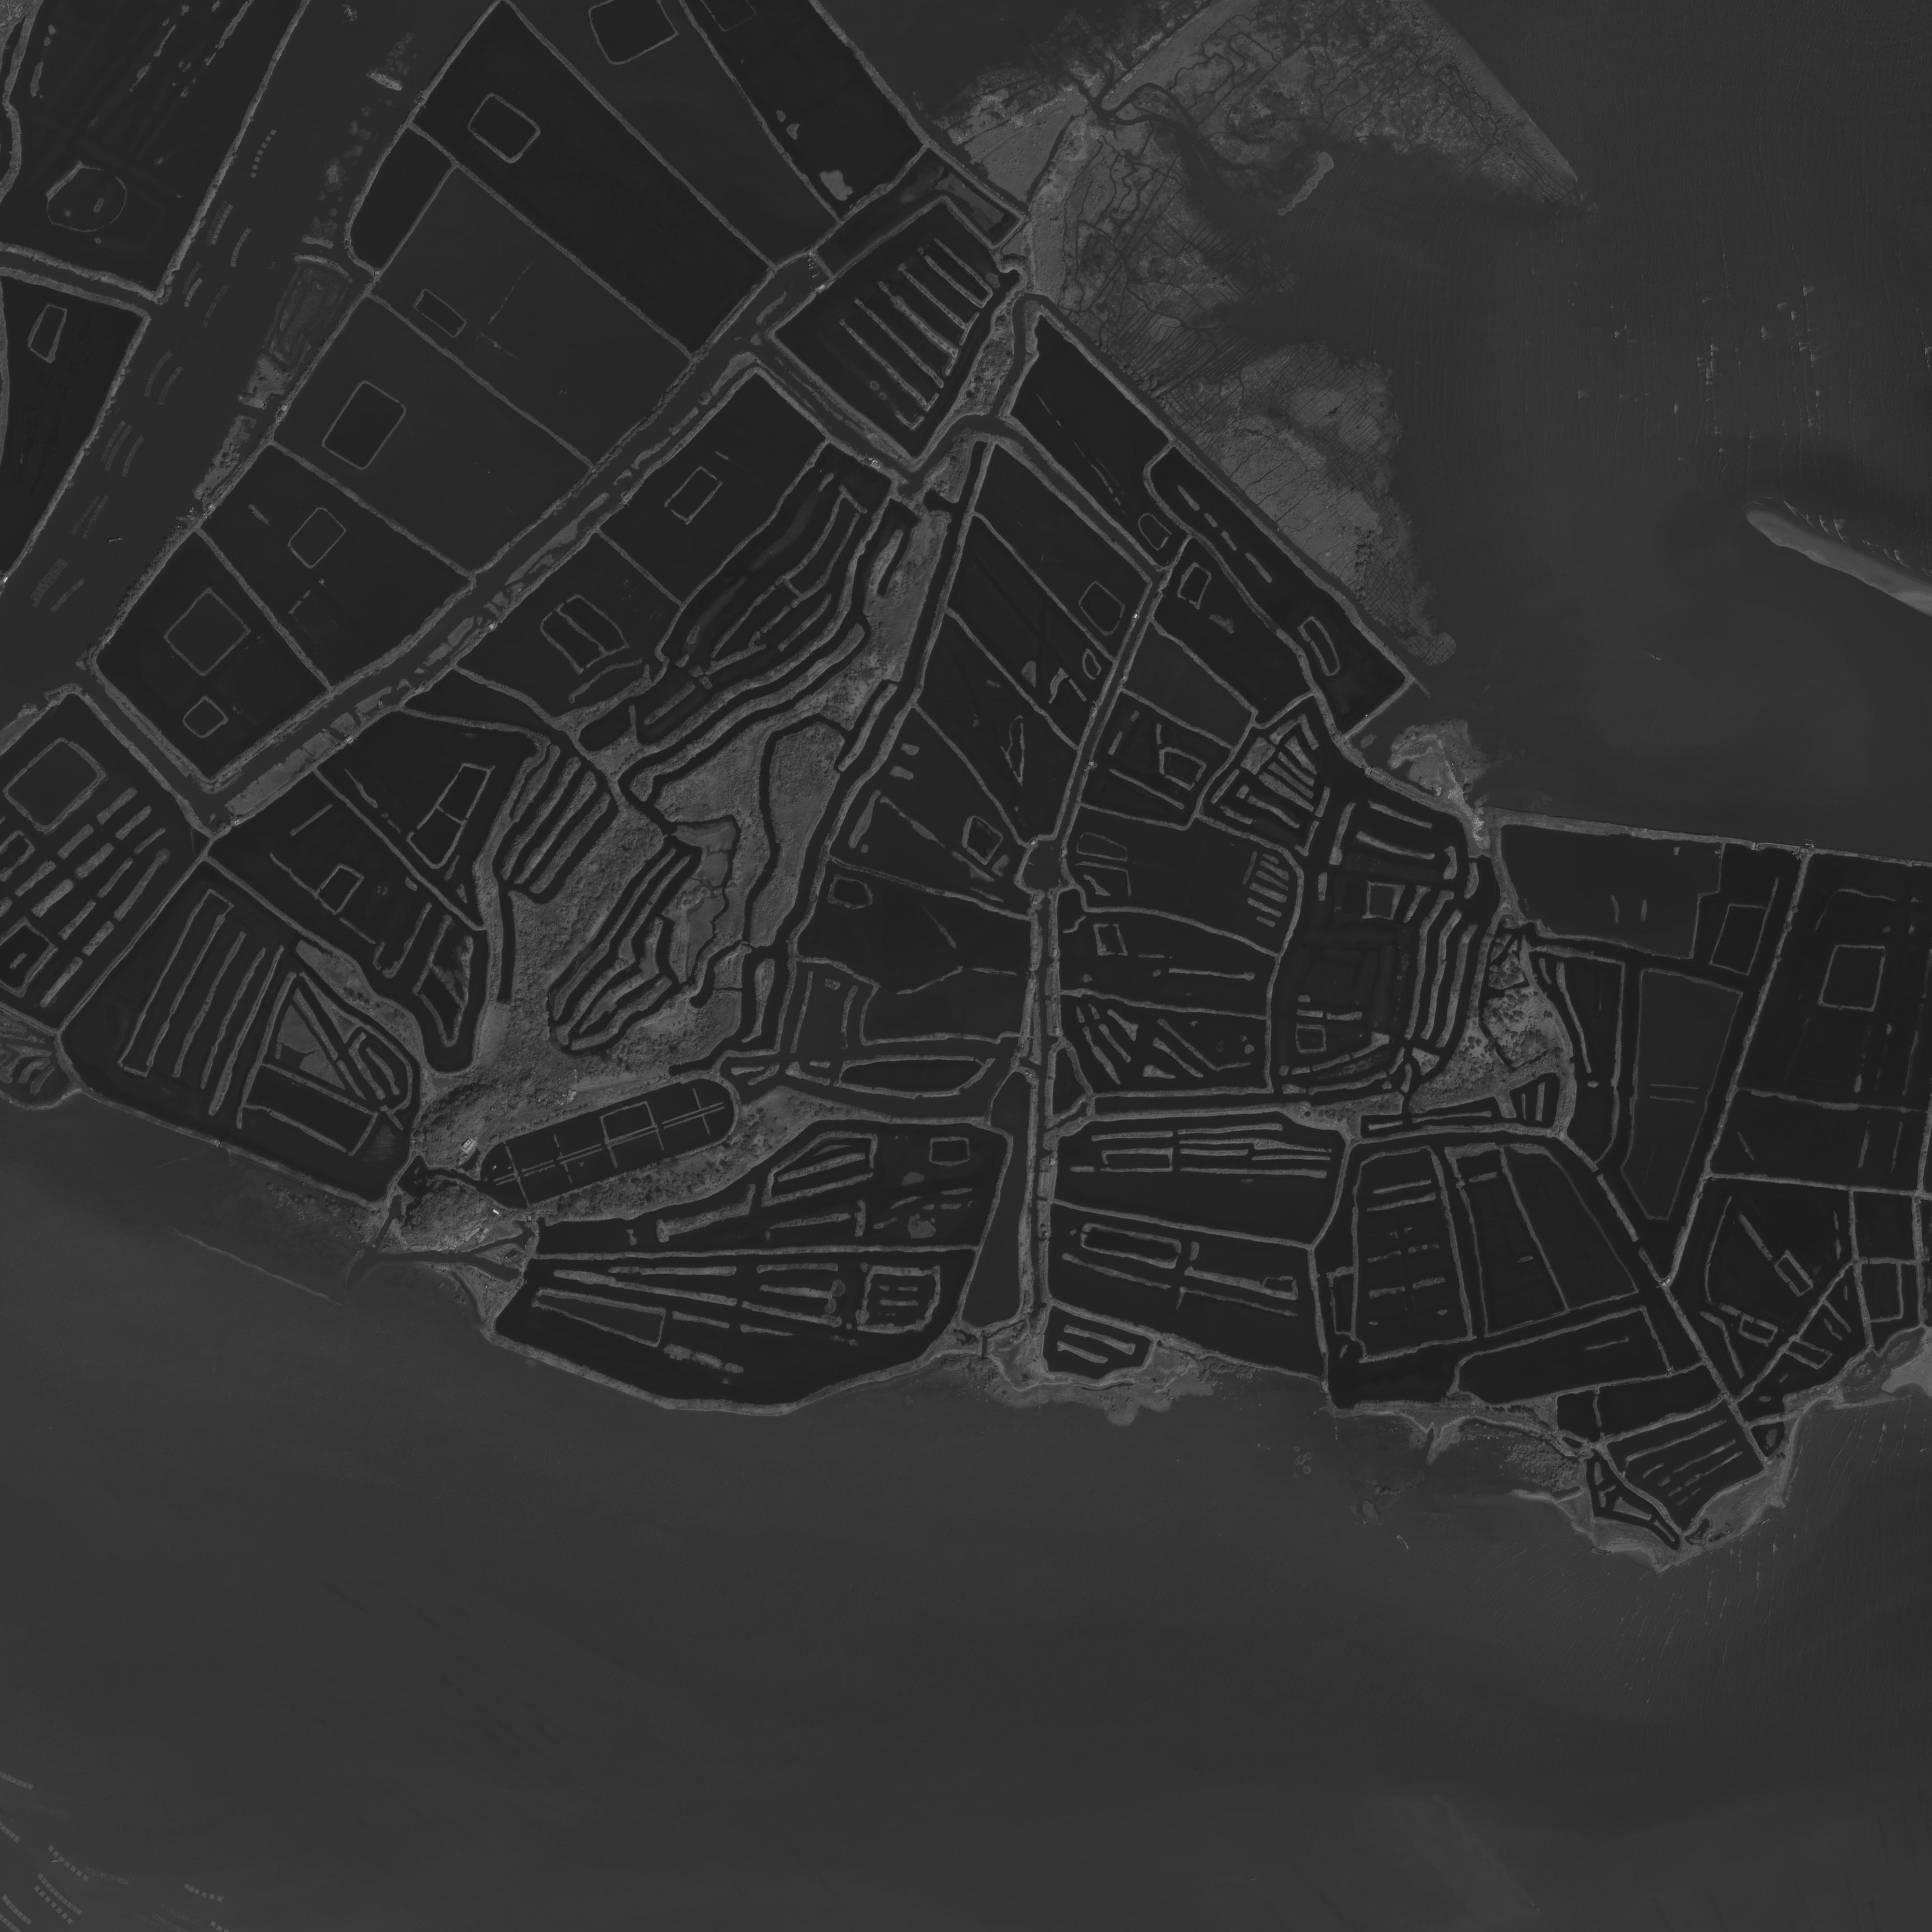ship: (1589, 1546, 1614, 1557), (1656, 655, 1663, 662), (1249, 1875, 1258, 1881), (1534, 1907, 1541, 1913)
